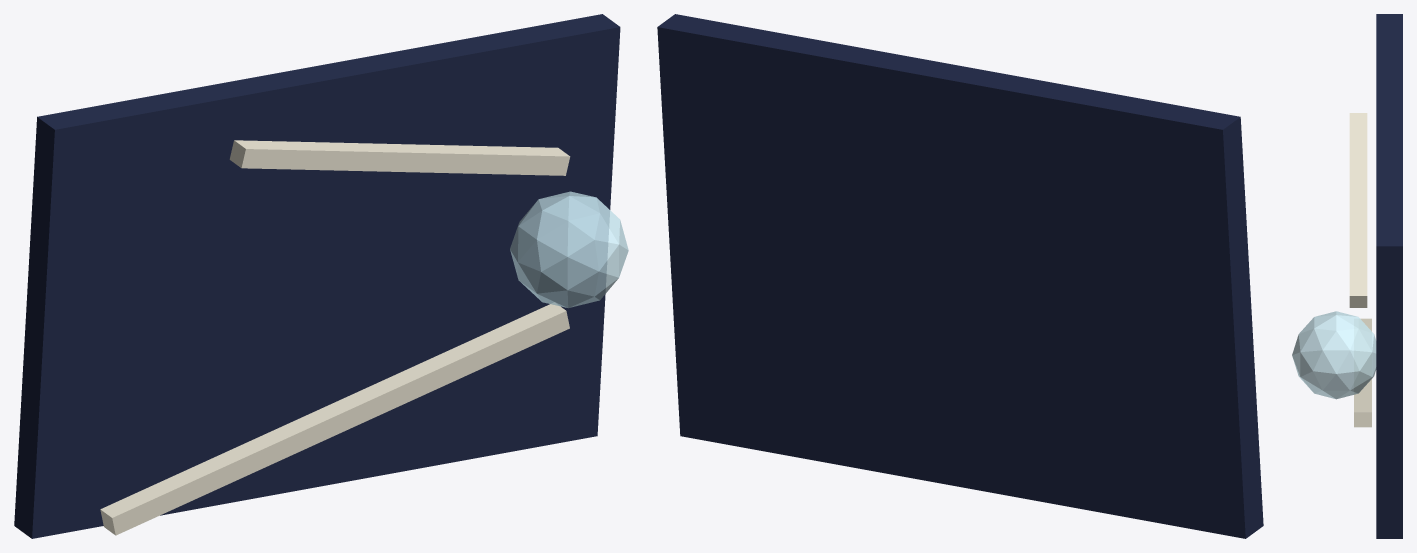
Rendered from 02_world_prop_polish.glb.
The picture shows the model from 3 angles, left to right: view 1: azimuth 30°, elevation 25°; view 2: azimuth 150°, elevation 25°; view 3: azimuth 270°, elevation 25°; orthographic projection. The views are drawn at different scales.
Parts seen in each view (by area): view 1: object_overlay_plate, edge_wear_a, glow_socket, edge_wear_b; view 2: object_overlay_plate; view 3: object_overlay_plate, glow_socket, edge_wear_b, edge_wear_a.
Part boxes in pixels (x1,y1,x2,y2): object_overlay_plate: (14,14,620,538); edge_wear_a: (100,303,569,535); glow_socket: (510,191,628,307); edge_wear_b: (229,140,570,175); object_overlay_plate: (657,14,1263,538); object_overlay_plate: (1376,14,1402,538); glow_socket: (1292,311,1376,399); edge_wear_b: (1349,113,1367,307); edge_wear_a: (1354,318,1371,427).
Size of the model in its own units: 1.14 by 0.8139 by 0.25.
